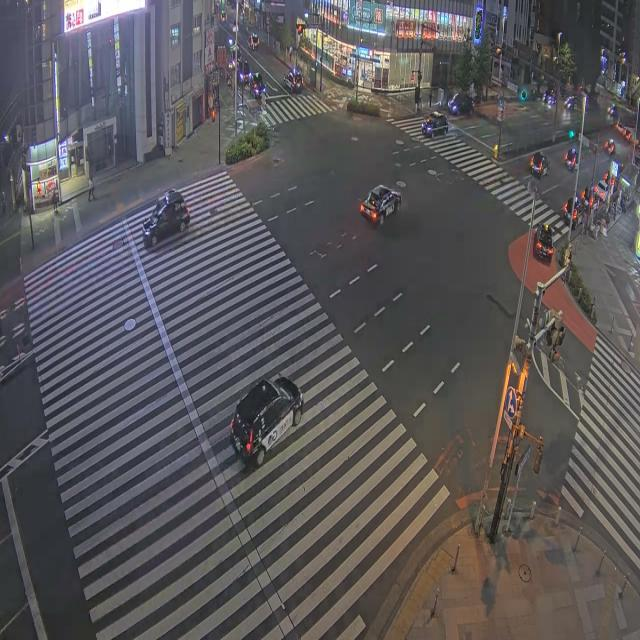car: (230, 376, 302, 466), (142, 190, 189, 247), (360, 185, 400, 224), (534, 224, 553, 261), (562, 197, 584, 228), (421, 112, 447, 137), (447, 93, 472, 115), (530, 152, 549, 177), (283, 69, 302, 93), (249, 73, 265, 98), (237, 59, 251, 83), (564, 147, 576, 170), (580, 184, 592, 207), (593, 181, 606, 201), (564, 96, 580, 110), (543, 90, 555, 106), (606, 103, 618, 118), (248, 33, 258, 50), (604, 139, 614, 155), (620, 128, 631, 142)
motorcycle: (604, 139, 614, 156)
